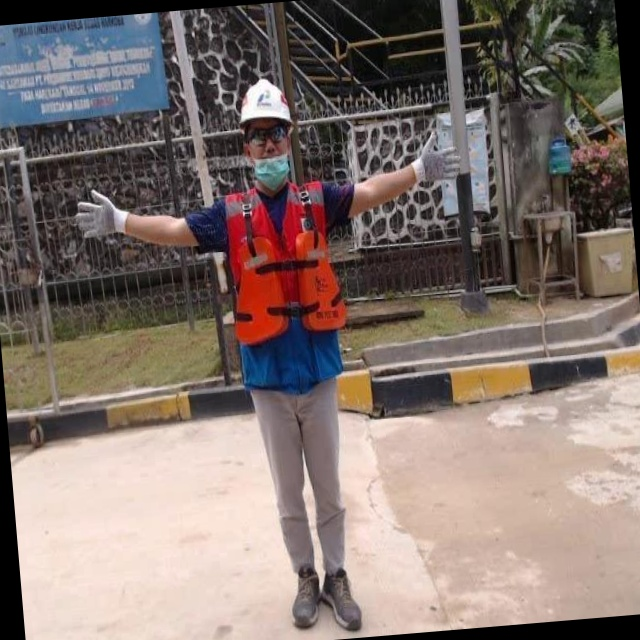boots: (299, 567, 340, 634), (267, 561, 300, 627)
gloves: (78, 165, 140, 222), (422, 143, 478, 195)
helmet: (256, 71, 312, 184)
vest: (237, 181, 348, 383)
